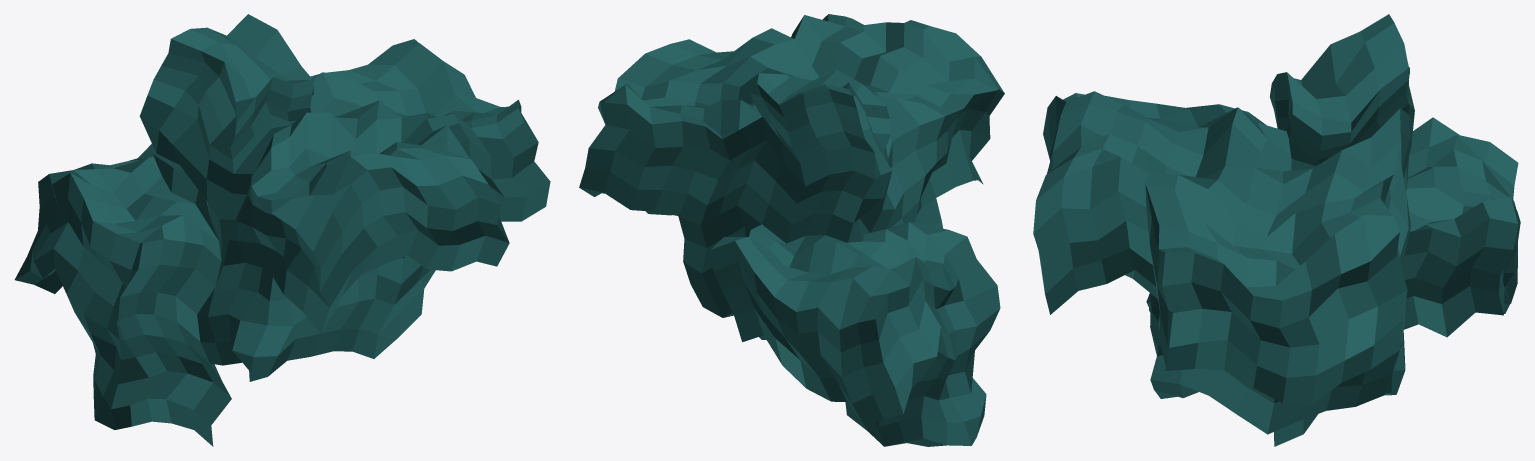
File: rock012.FBX
3 renders of one model, left to right at view 1: azimuth 30°, elevation 25°; view 2: azimuth 150°, elevation 25°; view 3: azimuth 270°, elevation 25°, orthographic. The views are drawn at different scales.
Parts seen in each view (by area): view 1: rock_012; view 2: rock_012; view 3: rock_012.
Part boxes in pixels (box(x1,y1,x2,y2)): rock_012: box(14, 14, 550, 446); rock_012: box(579, 14, 1004, 446); rock_012: box(1033, 14, 1520, 446).
Bounding box in the file's own units: 14.03 × 12.42 × 12.47.
